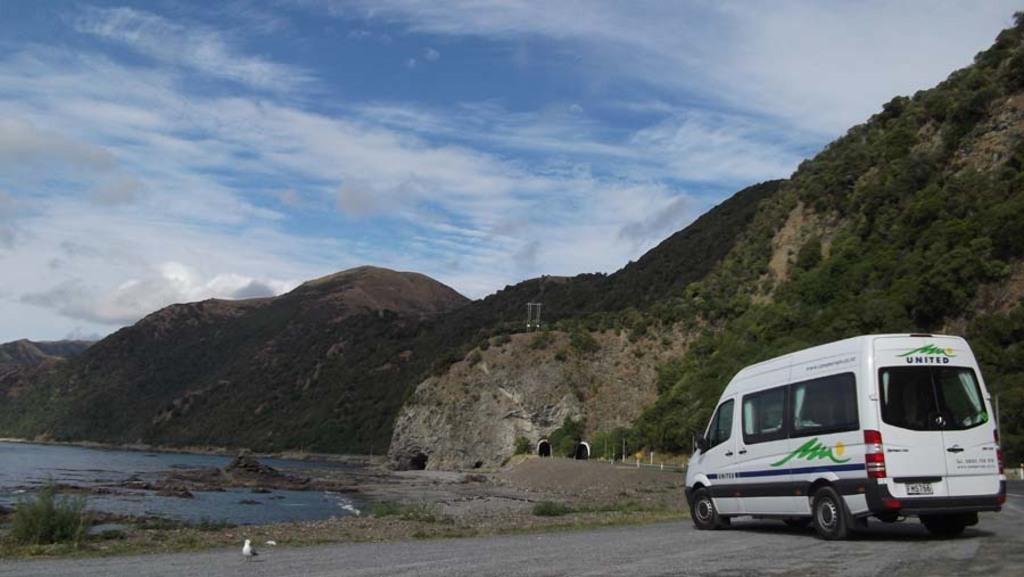vehicle: (684, 332, 1007, 539)
